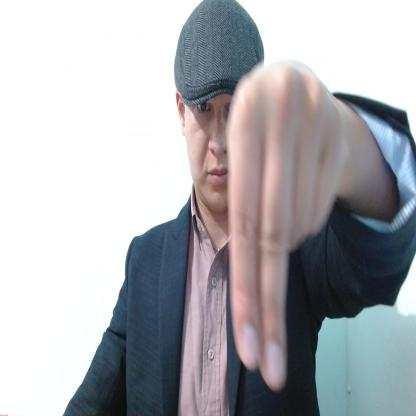N: (228, 59, 354, 392)
